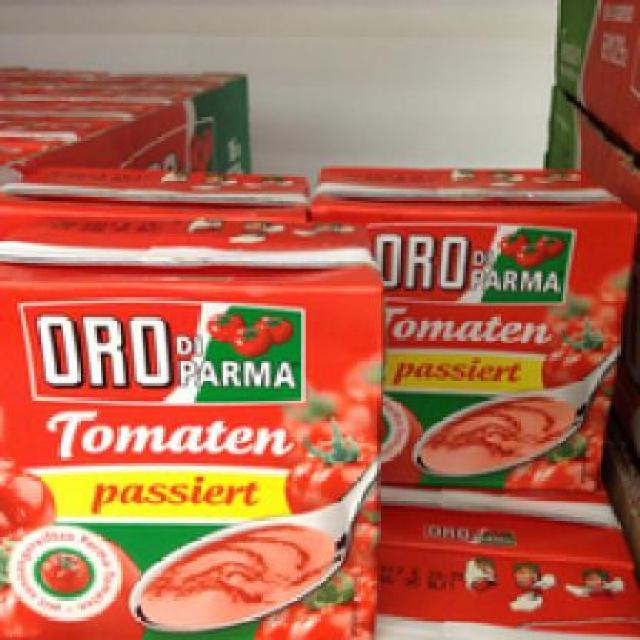Tomato Sauce: (0, 208, 380, 638), (312, 154, 634, 486)
